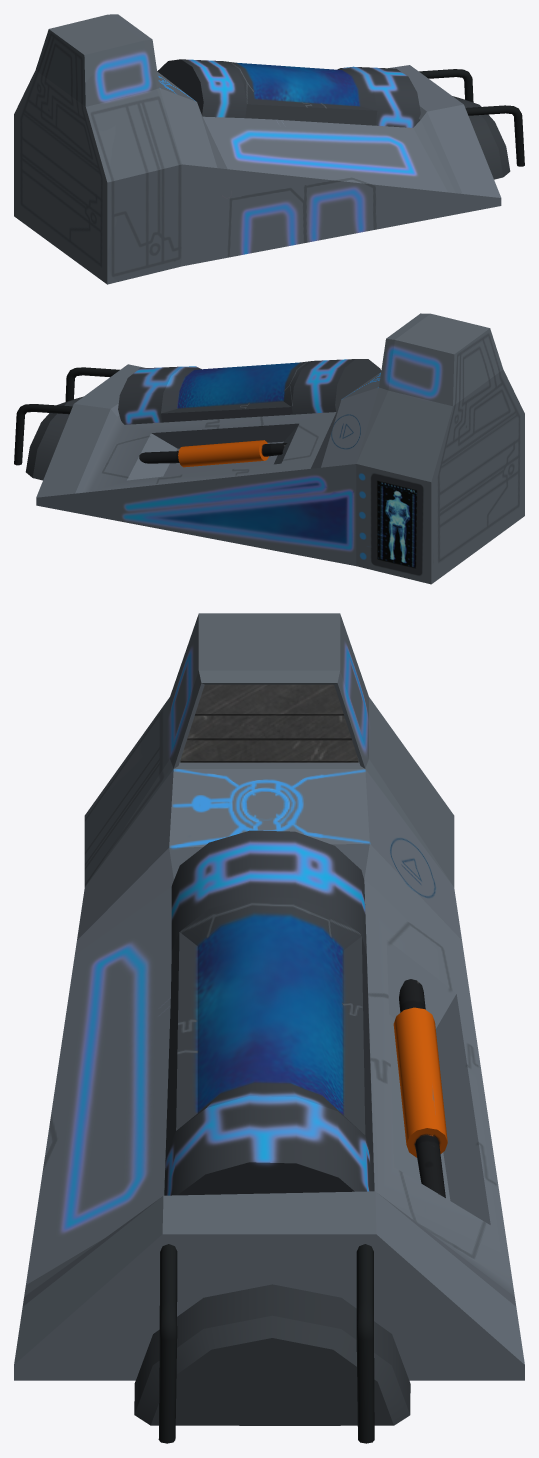
Rendered from Prueba1.fbx.
3 views of the same model, one above another, from view 1: azimuth 30°, elevation 25°; view 2: azimuth 150°, elevation 25°; view 3: azimuth 270°, elevation 25° (orthographic). The views are drawn at different scales.
Visible parts, largest first — view 1: polySurface10; view 2: polySurface10; view 3: polySurface10.
Boxes of the visible parts, x1,y1,x2,y2 form: polySurface10: (14, 14, 524, 284); polySurface10: (14, 313, 524, 584); polySurface10: (14, 613, 524, 1443).
Size of the model in its own units: 10.84 by 4.93 by 5.53.
1 material, 1 textured.
